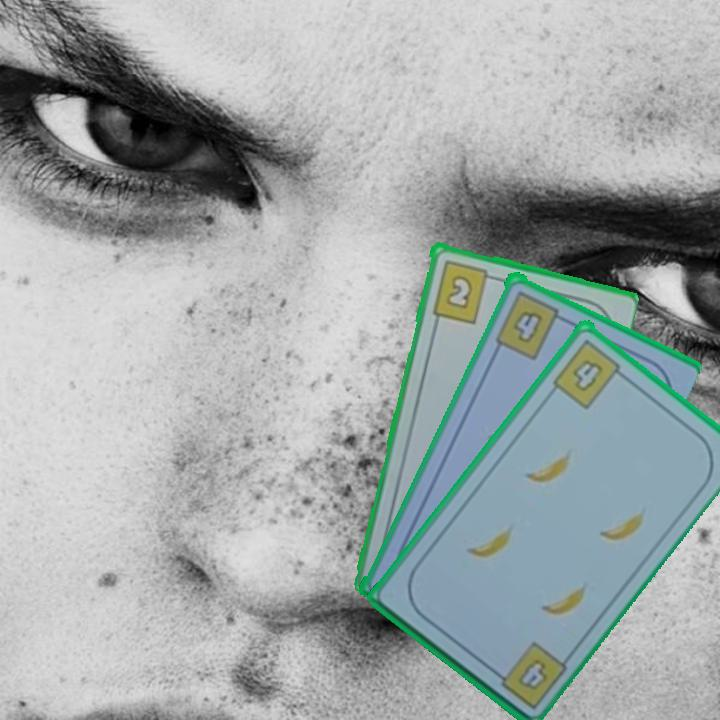2b: (428, 256, 499, 325)
4b: (549, 334, 630, 411), (487, 637, 570, 712), (491, 286, 569, 362)
